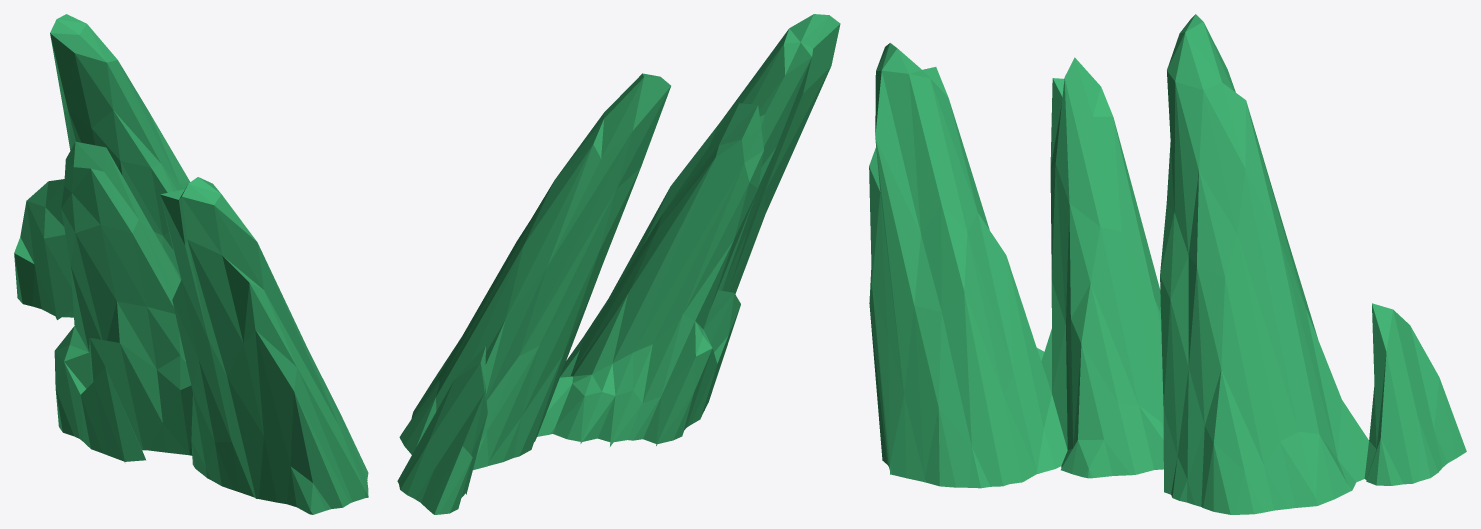
Rendered from Rock_Large_Gem_Jade_Emerald_Spike_Cluster_01.FBX.
3 renders of one model, left to right at view 1: azimuth 30°, elevation 25°; view 2: azimuth 150°, elevation 25°; view 3: azimuth 270°, elevation 25°, orthographic. The views are drawn at different scales.
Visible parts, largest first — view 1: Rock_Large_Gem_Jade_Emerald_Spike_Cluster_01; view 2: Rock_Large_Gem_Jade_Emerald_Spike_Cluster_01; view 3: Rock_Large_Gem_Jade_Emerald_Spike_Cluster_01.
Boxes of the visible parts, <box> form: Rock_Large_Gem_Jade_Emerald_Spike_Cluster_01: <box>14,14,368,514</box>; Rock_Large_Gem_Jade_Emerald_Spike_Cluster_01: <box>397,14,840,514</box>; Rock_Large_Gem_Jade_Emerald_Spike_Cluster_01: <box>869,14,1466,514</box>.
Size of the model in its own units: 11936 by 16002 by 22108.
